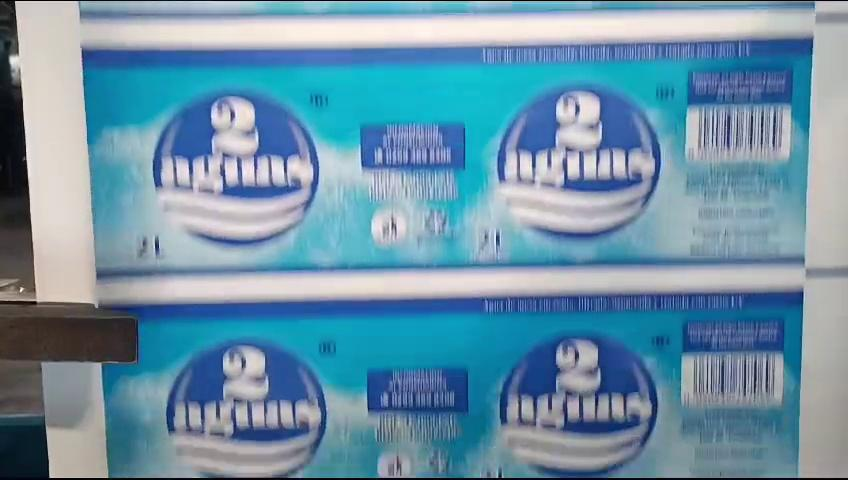print: (69, 33, 816, 283)
